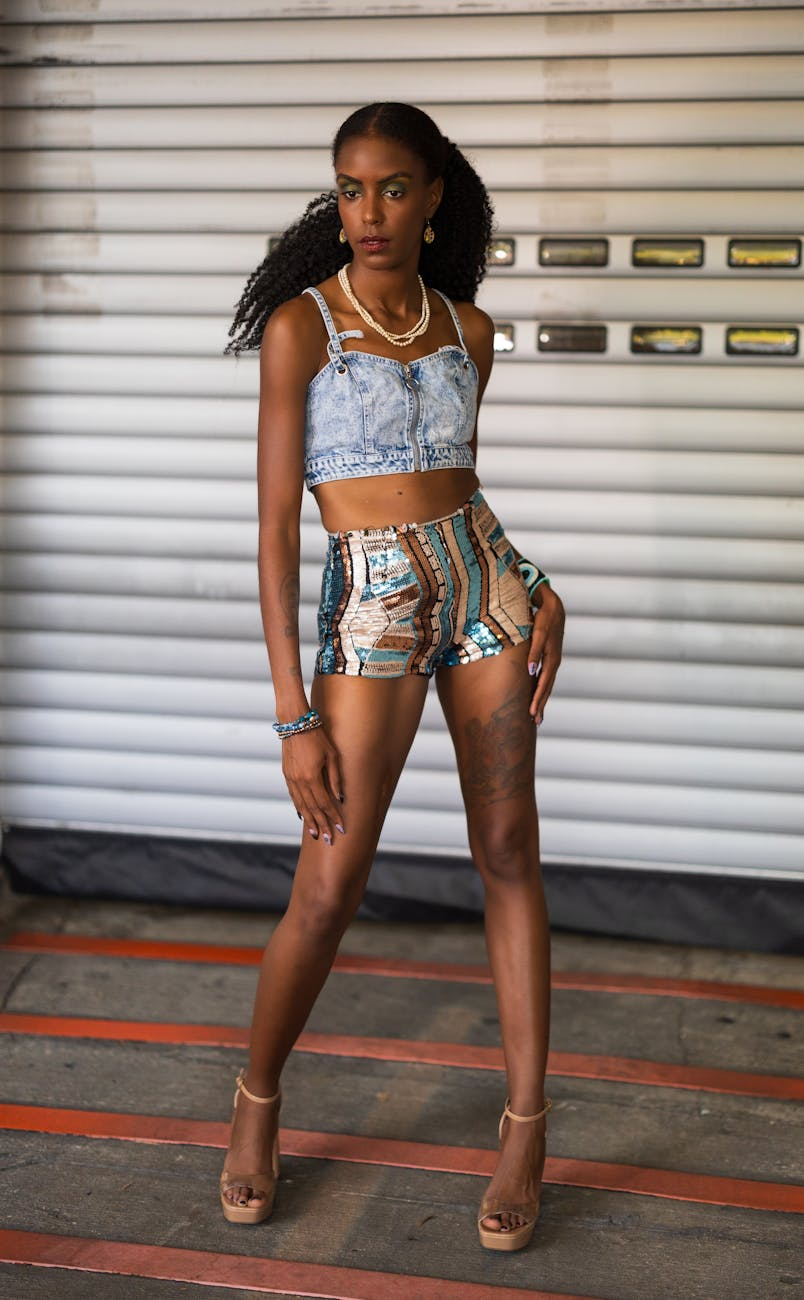crop_top: (280, 279, 492, 492)
opened_foot: (453, 1103, 555, 1260), (199, 1068, 293, 1235)
short_medium_skirt: (308, 490, 556, 681)
